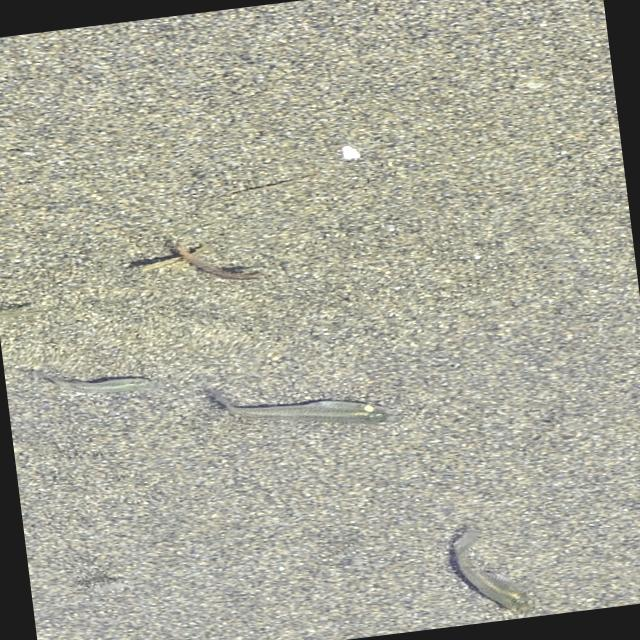Sivrisinek Baligi: (210, 374, 396, 452), (434, 521, 542, 626), (37, 358, 165, 410)
